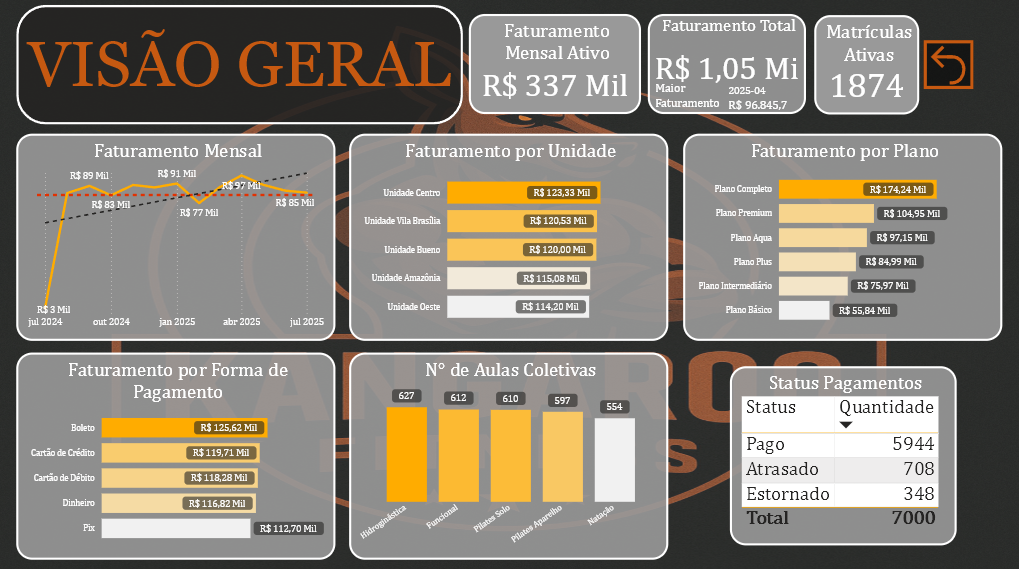

This screenshot's page, from the dashboard's own definition file:
{"tool":"powerbi","page":{"name":"Geral","canvas":[1280,720],"ordinal":1},"visuals":[{"type":"group","id":"g1","title":"Grupo 1","box":[22.9,8.1,560,150],"z":0},{"type":"shape","box":[22.9,8.1,560,150],"z":0,"group":"g1"},{"type":"card","title":"Faturamento Total","fields":{"Values":["0_Medidas.Fat_total"]},"box":[815,20.3,198,125],"z":0,"group":"g2"},{"type":"textbox","box":[30.5,31,544.8,104.3],"z":1000,"group":"g1"},{"type":"multiRowCard","title":"Melhor Mês","fields":{"Values":["0_Medidas.Fat_total","fat_pagamentos.Ano-mes"]},"box":[910.1,105.3,141.2,56.2],"z":1000,"group":"g2"},{"type":"lineChart","title":"Faturamento Mensal","fields":{"Y":["0_Medidas.Fat_total"],"Category":["fat_pagamentos.Data_Pagamento.Variation.Hierarquia de datas.Ano","fat_pagamentos.Data_Pagamento.Variation.Hierarquia de datas.Mês"]},"box":[22.9,170.4,400,260],"z":1000},{"type":"textbox","box":[818.9,99.1,106.2,56.2],"z":2000,"group":"g2"},{"type":"clusteredBarChart","title":"Faturamento por Unidade","fields":{"Y":["0_Medidas.Fat_Forma_Pag"],"Category":["fat_Unidade.Nome"]},"box":[439.6,170.4,400,260],"z":2000},{"type":"clusteredBarChart","title":"Faturamento por Forma de Pagamento","fields":{"Y":["0_Medidas.Fat_Forma_Pag"],"Category":["fat_matriculas.Forma_Pagamento"]},"box":[22.9,444.8,400,260],"z":3000},{"type":"clusteredBarChart","title":"Faturamento por Plano","fields":{"Y":["0_Medidas.Fat_Forma_Pag"],"Category":["dim_plano.Nome"]},"box":[858.6,170.4,400,260],"z":4000},{"type":"tableEx","title":"Status Pagamentos","fields":{"Values":["fat_pagamentos.Status_Pagamento","CountNonNull(fat_pagamentos.ID_Pagamento)"]},"box":[917.1,461.4,284.3,224.3],"z":5000},{"type":"card","title":"Matrículas Ativas","fields":{"Values":["0_Medidas.N_Mat_Ativas"]},"box":[1024,20.3,131.4,124.3],"z":6000},{"type":"card","title":"Faturamento Mensal Ativo","fields":{"Values":["0_Medidas.Fat_Mat_Ativas"]},"box":[589.4,20.3,215.7,125.7],"z":7000},{"type":"actionButton","box":[1160,52.5,62.5,61.2],"z":8000},{"type":"clusteredColumnChart","title":"N° de Aulas Coletivas","fields":{"Category":["dim_modalidade.Modalidade"],"Y":["CountNonNull(fat_aulas_coletivas.ID_modalidade)"]},"box":[439.6,444.8,400,260],"z":9000},{"type":"group","id":"g2","title":"Grupo 2","box":[815,20.3,237.1,141.4],"z":10000}]}

Visuals, with their boxes in screenshot pixels (x1, y1, x2, y2), scaled from the page's 1280x720 canvas onto the 1019x569 screenshot:
"Grupo 1" group: bbox=[18, 6, 464, 125]
shape: bbox=[18, 6, 464, 125]
"Faturamento Total" card: bbox=[649, 16, 806, 115]
textbox: bbox=[24, 24, 458, 107]
"Melhor Mês" multiRowCard: bbox=[725, 83, 837, 128]
"Faturamento Mensal" lineChart: bbox=[18, 135, 337, 340]
textbox: bbox=[652, 78, 736, 123]
"Faturamento por Unidade" clusteredBarChart: bbox=[350, 135, 668, 340]
"Faturamento por Forma de Pagamento" clusteredBarChart: bbox=[18, 352, 337, 557]
"Faturamento por Plano" clusteredBarChart: bbox=[684, 135, 1002, 340]
"Status Pagamentos" tableEx: bbox=[730, 365, 956, 542]
"Matrículas Ativas" card: bbox=[815, 16, 920, 114]
"Faturamento Mensal Ativo" card: bbox=[469, 16, 641, 115]
actionButton: bbox=[923, 41, 973, 90]
"N° de Aulas Coletivas" clusteredColumnChart: bbox=[350, 352, 668, 557]
"Grupo 2" group: bbox=[649, 16, 838, 128]
